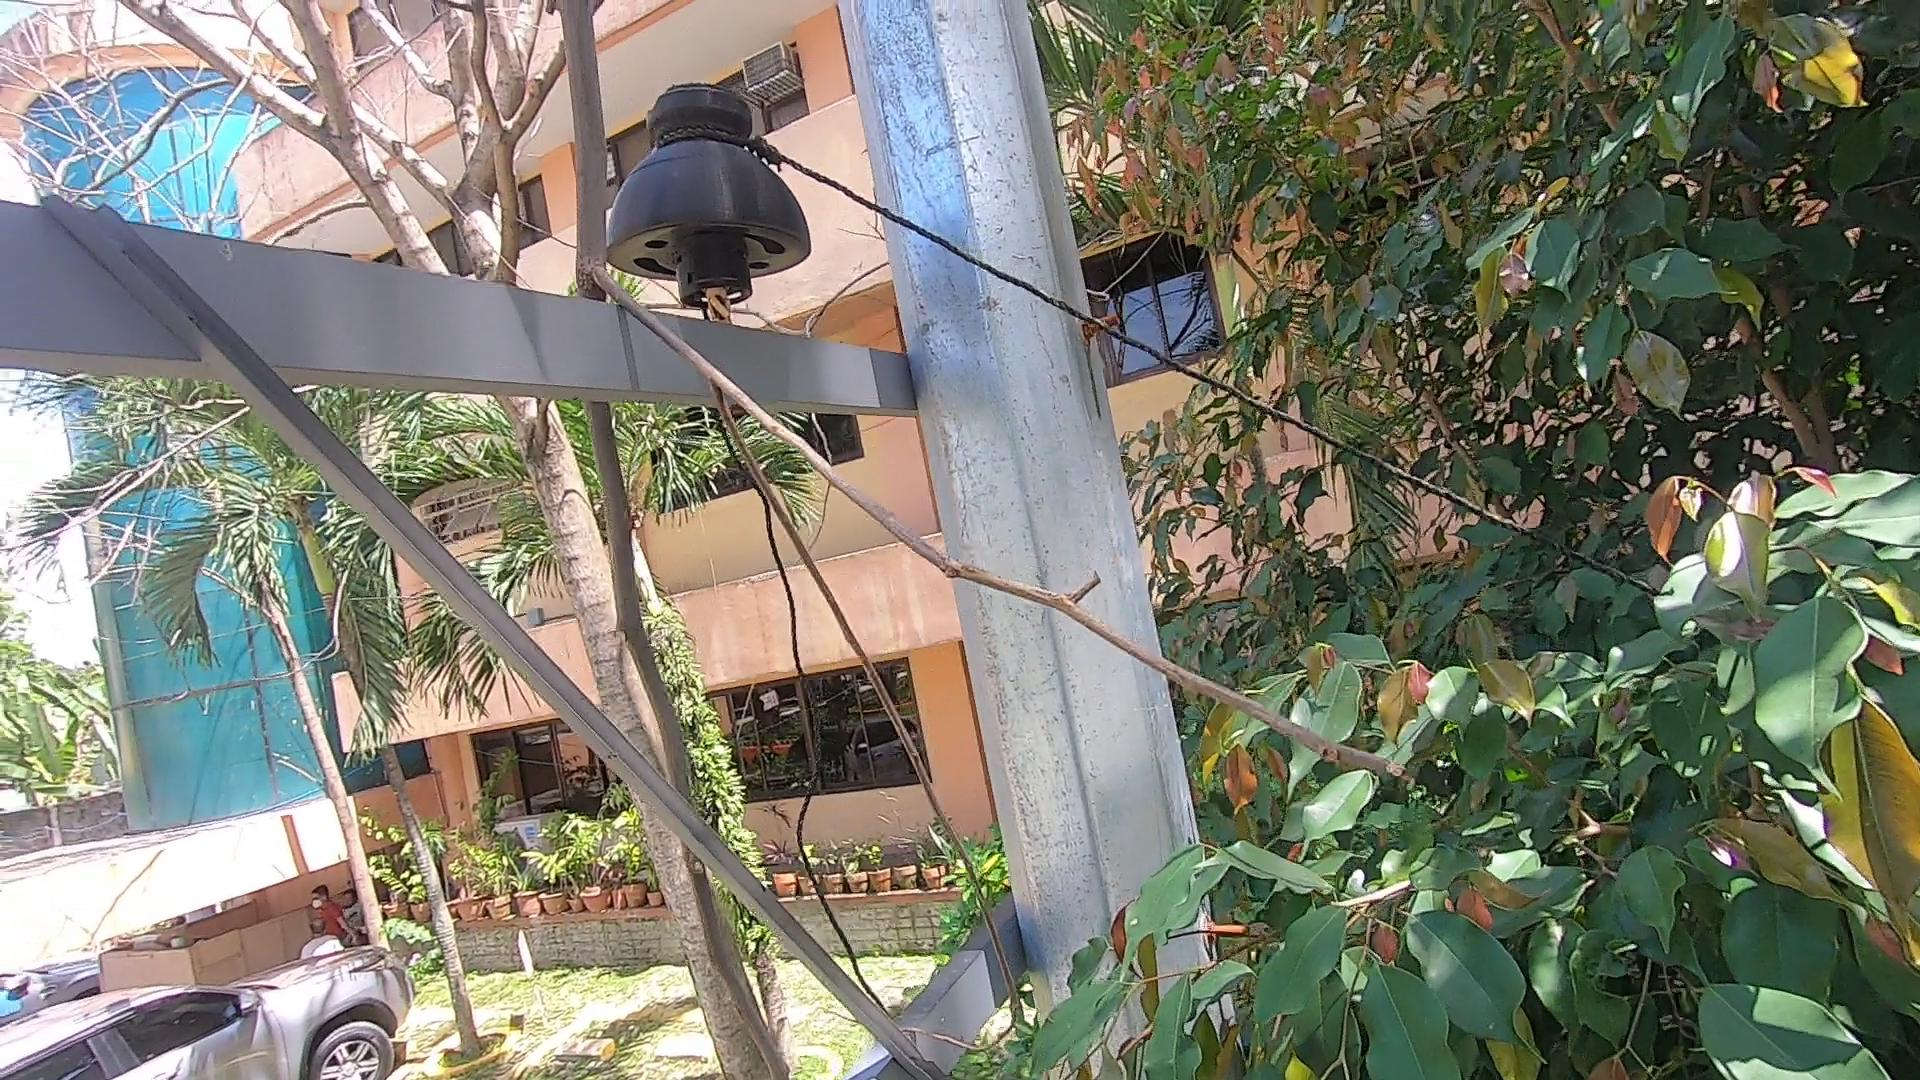tree branch: (491, 7, 1406, 1065)
